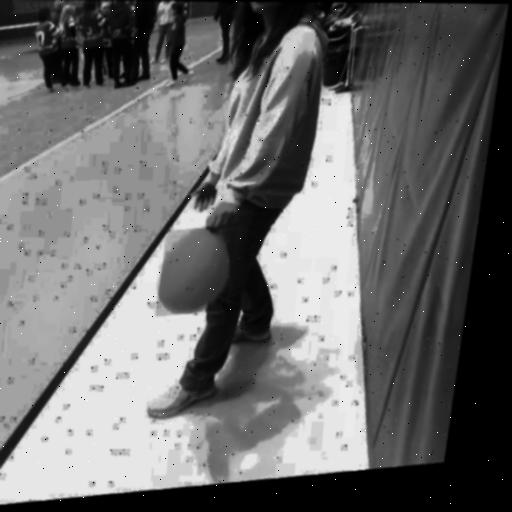balloon: (159, 230, 240, 321)
